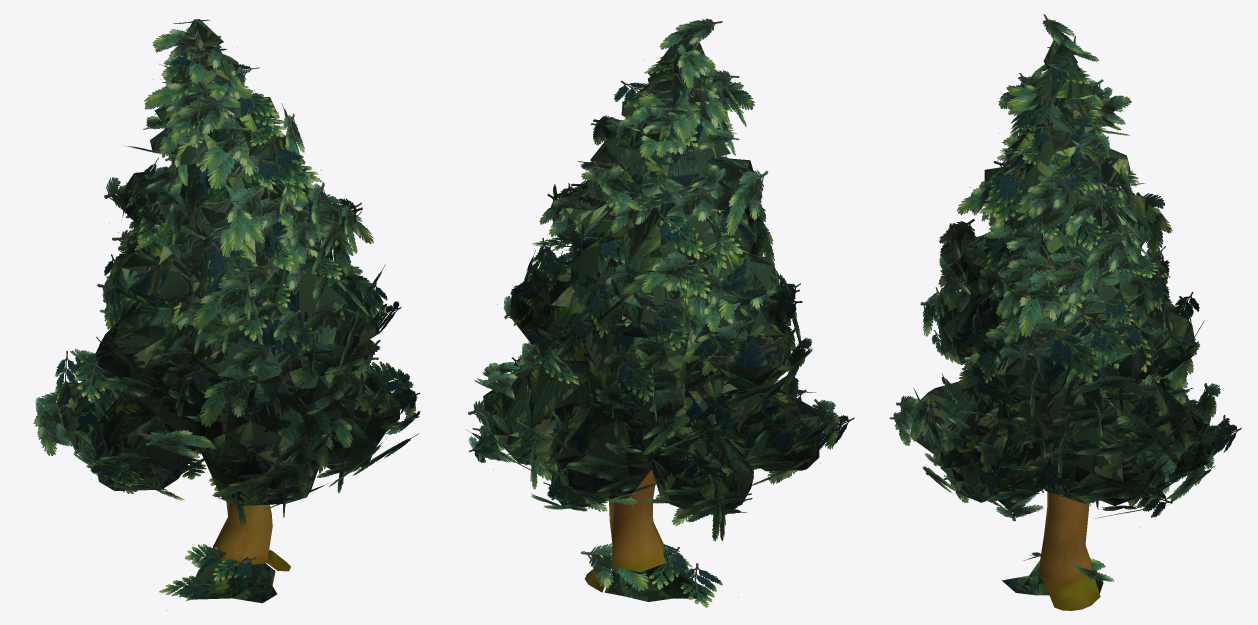
File: pine_4.glb
3 renders of one model, left to right at view 1: azimuth 30°, elevation 25°; view 2: azimuth 150°, elevation 25°; view 3: azimuth 270°, elevation 25°, orthographic. The views are drawn at different scales.
Visible parts, largest first — view 1: Fable_pine_4; view 2: Fable_pine_4; view 3: Fable_pine_4.
Part boxes in pixels (<box>): Fable_pine_4: <box>33,19,420,610</box>; Fable_pine_4: <box>466,18,854,607</box>; Fable_pine_4: <box>889,14,1241,610</box>.
Size of the model in its own units: 6.2 by 10.24 by 6.11.
2 materials, 2 textured.
